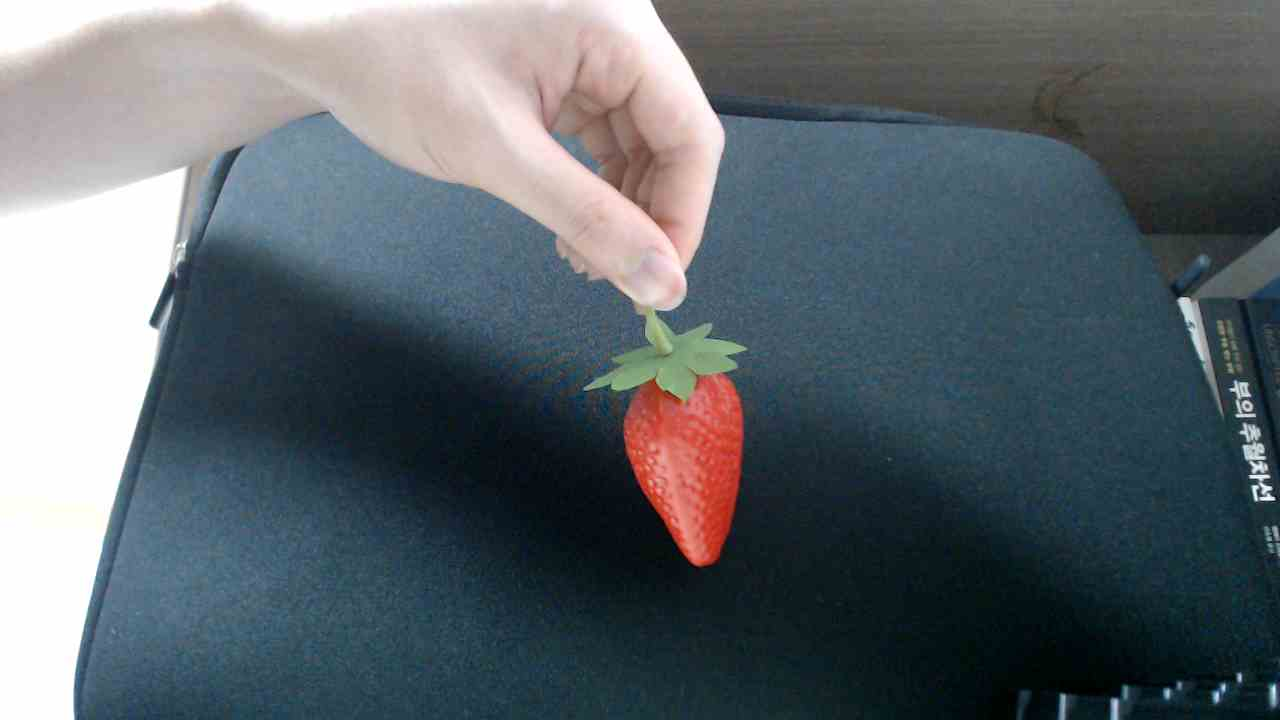strawberry: (609, 336, 765, 569)
